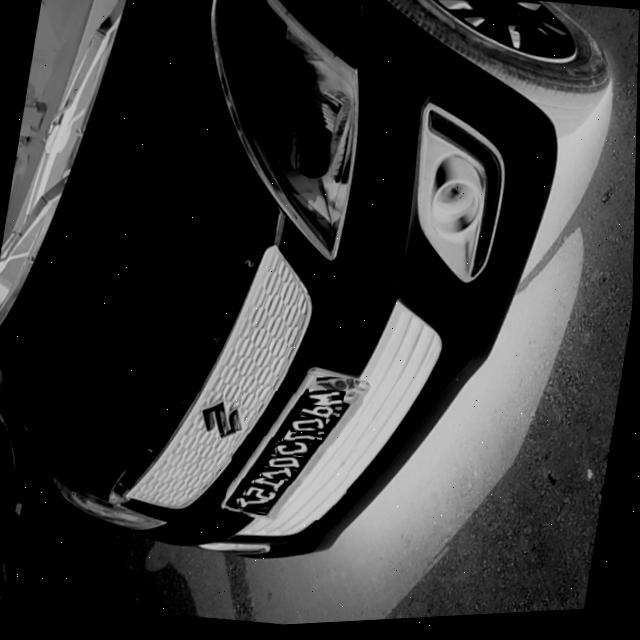0: (292, 417, 328, 440)
1: (262, 467, 295, 484), (240, 499, 273, 516), (256, 478, 287, 495)
5: (247, 486, 280, 505)
7: (284, 430, 320, 449)
C: (277, 442, 312, 462)
D: (269, 455, 304, 474)
IND: (316, 377, 358, 401)
Indian_registered: (227, 376, 367, 518)
M: (308, 390, 346, 416)
P: (302, 405, 337, 424)
